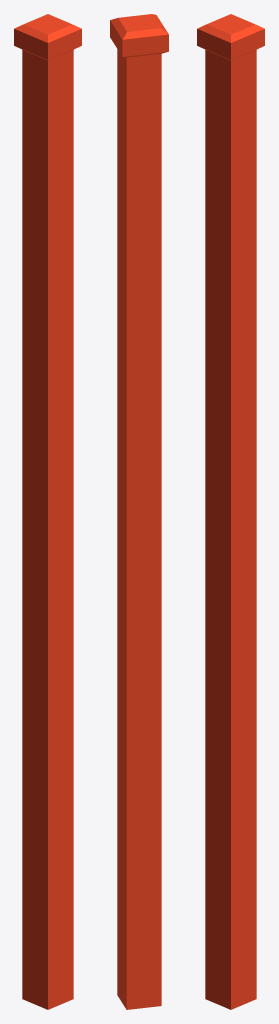
Rendered from SM_Fence_Chainlink_Pillar_Low_City.fbx.
3 renders of one model, left to right at view 1: azimuth 90°, elevation 25°; view 2: azimuth 150°, elevation 25°; view 3: azimuth 270°, elevation 25°, orthographic.
Visible parts, largest first — view 1: SM_Fence_Chainlink_Pillar_Low_City; view 2: SM_Fence_Chainlink_Pillar_Low_City; view 3: SM_Fence_Chainlink_Pillar_Low_City.
Part boxes in pixels (<box>): SM_Fence_Chainlink_Pillar_Low_City: <box>14,14,81,1009</box>; SM_Fence_Chainlink_Pillar_Low_City: <box>110,14,168,1009</box>; SM_Fence_Chainlink_Pillar_Low_City: <box>197,14,264,1009</box>.
Bounding box in the file's own units: 0.1295 × 2.05 × 0.1295.
